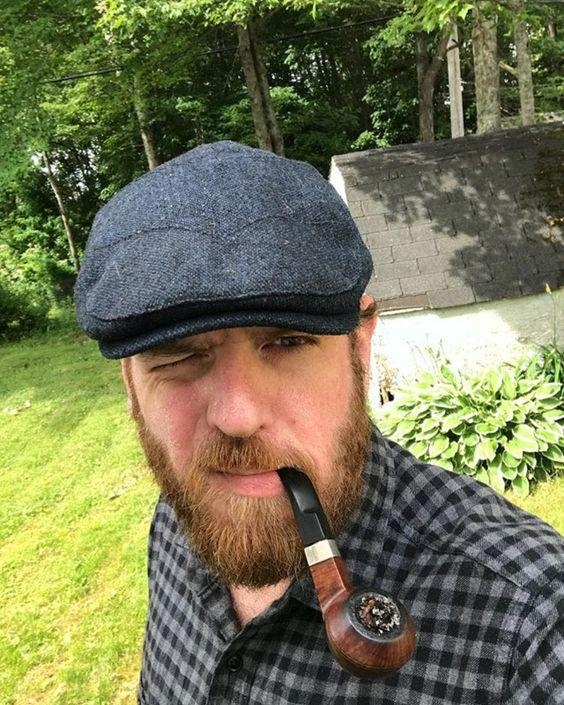trubka: (278, 469, 416, 677)
